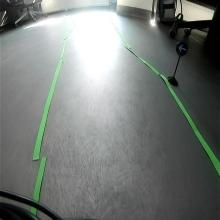left: (176, 40, 188, 58)
